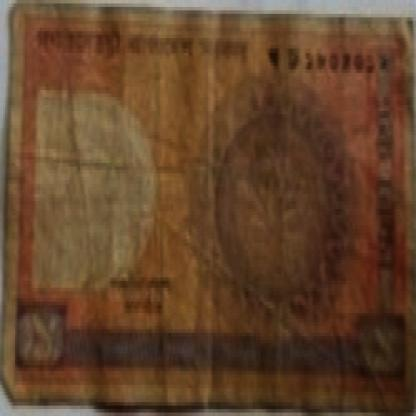One Taka: (17, 302, 65, 364), (358, 319, 406, 374)
